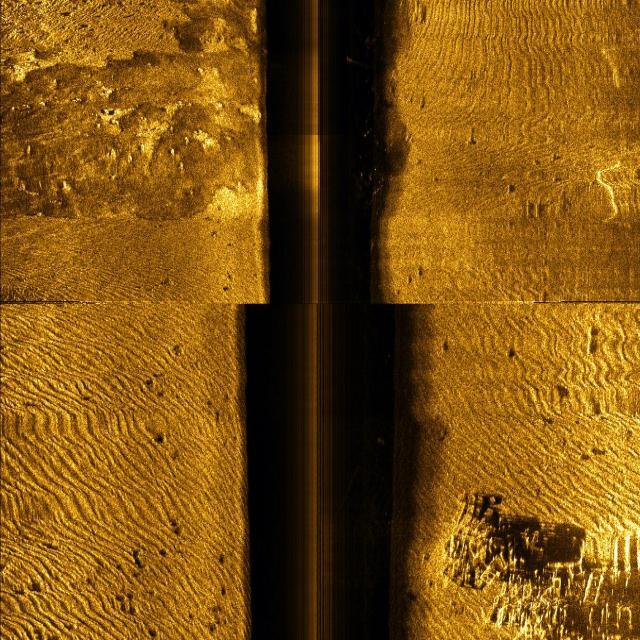artificial reef: (446, 518, 546, 630)
